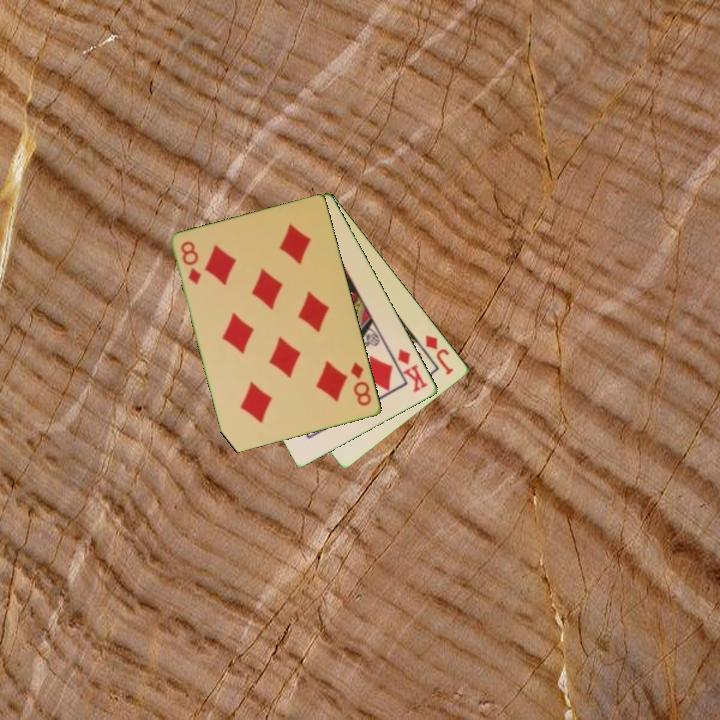8d: (347, 359, 375, 409), (177, 238, 204, 288)
Jd: (422, 331, 457, 378)
Kd: (394, 345, 431, 396)
